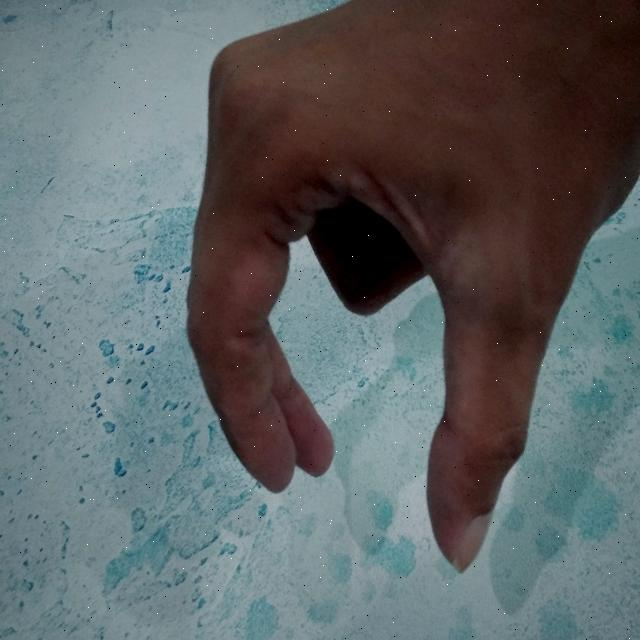Q: (166, 0, 640, 579)
